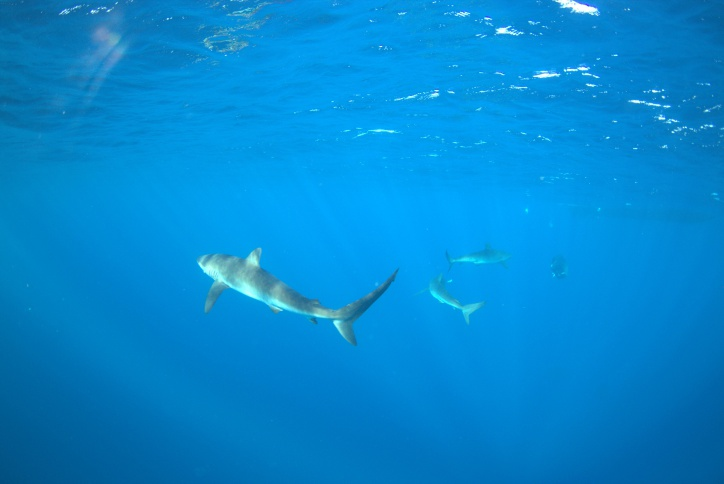Sedoso: (444, 233, 540, 273)
